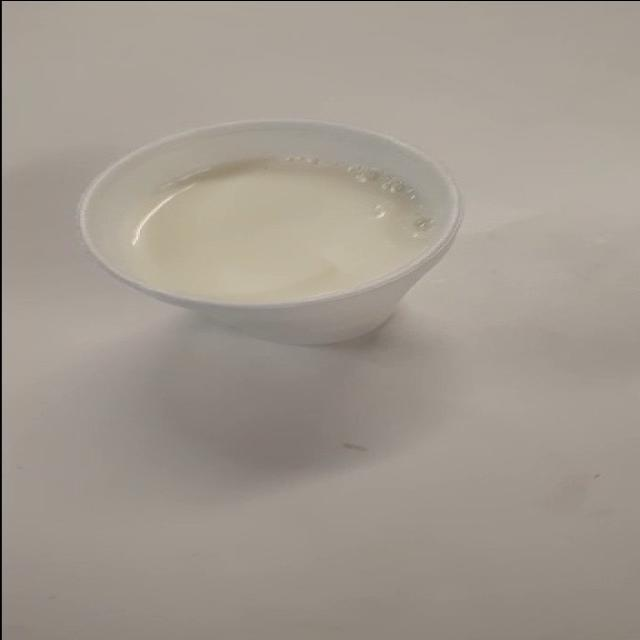Milk: (60, 109, 504, 362)
